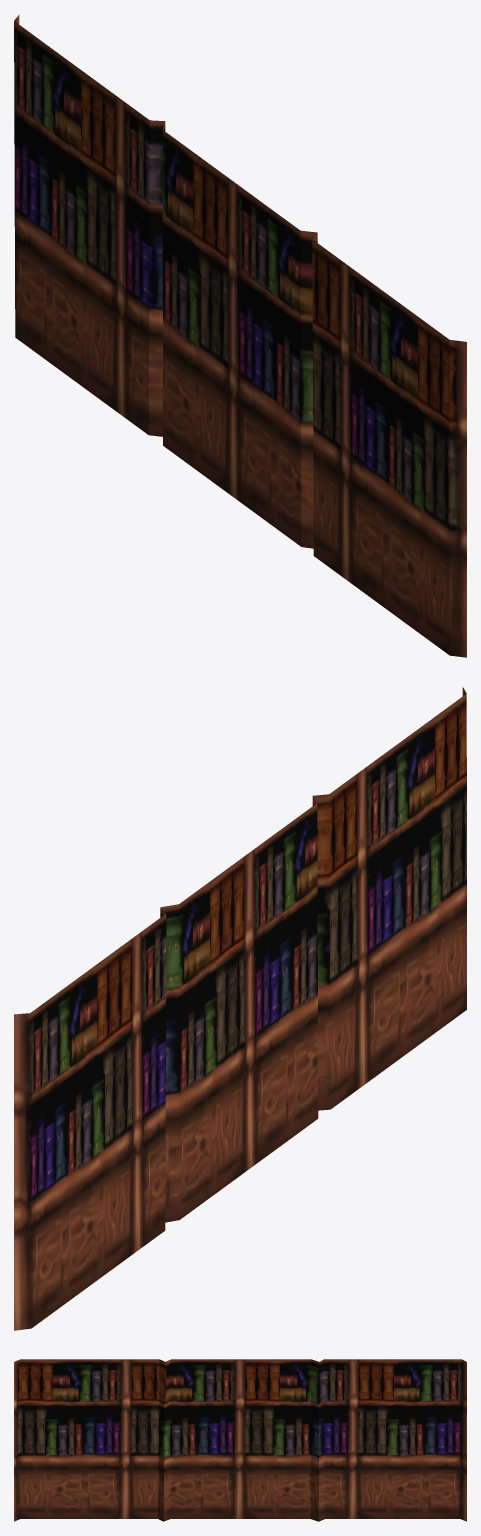
File: BibliothekWandverbau_4x_2242.glb
3 renders of one model, top to bottom at view 1: azimuth 30°, elevation 25°; view 2: azimuth 150°, elevation 25°; view 3: azimuth 270°, elevation 25°, orthographic. The views are drawn at different scales.
Parts seen in each view (by area): view 1: pPlaneShape1; view 2: pPlaneShape1; view 3: pPlaneShape1.
Part boxes in pixels (x1,y1,x2,y2): pPlaneShape1: (14, 15, 466, 657); pPlaneShape1: (14, 687, 466, 1330); pPlaneShape1: (14, 1359, 466, 1521).
Bounding box in the file's own units: 0.0139 × 0.3891 × 1.
Materials: 1 (1 with a texture image).
